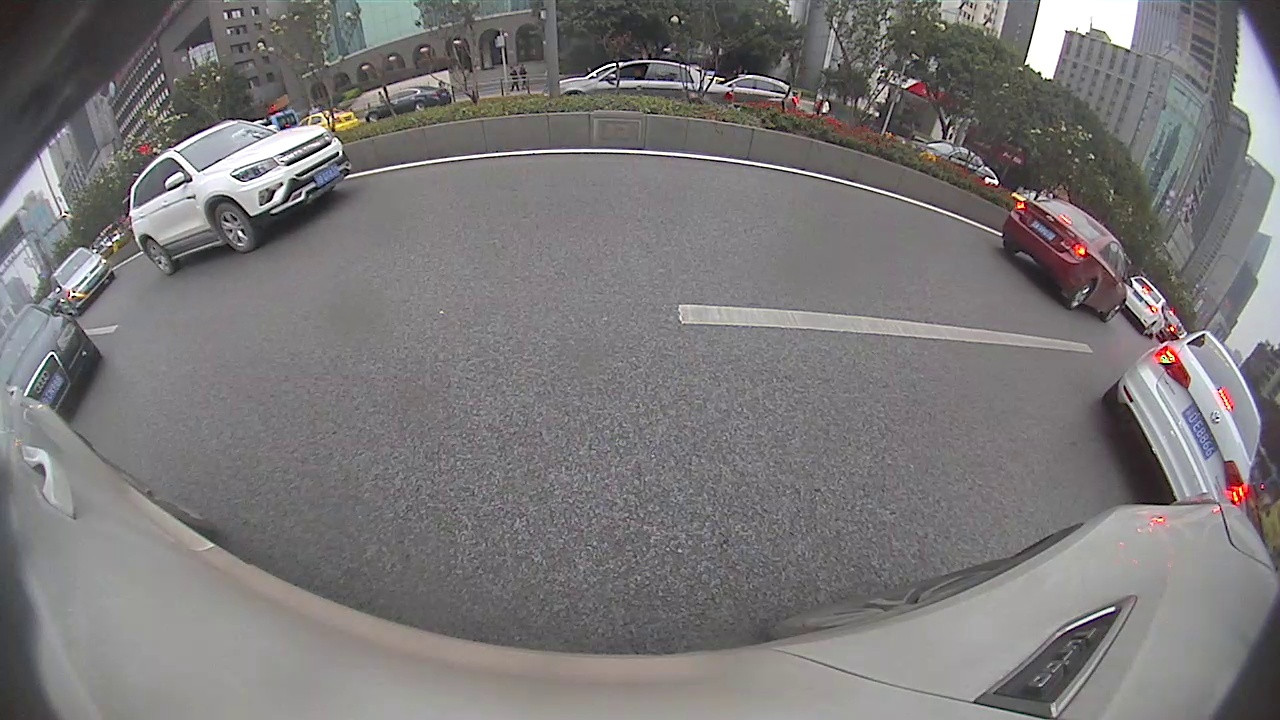car: (128, 117, 353, 277), (1100, 327, 1267, 508), (1001, 198, 1135, 322), (0, 298, 102, 418), (48, 247, 114, 314), (1122, 275, 1168, 336)
front: (213, 202, 256, 251), (1103, 301, 1126, 323), (366, 112, 379, 126)
rear: (143, 238, 176, 276), (1065, 282, 1095, 310), (413, 99, 426, 112)
